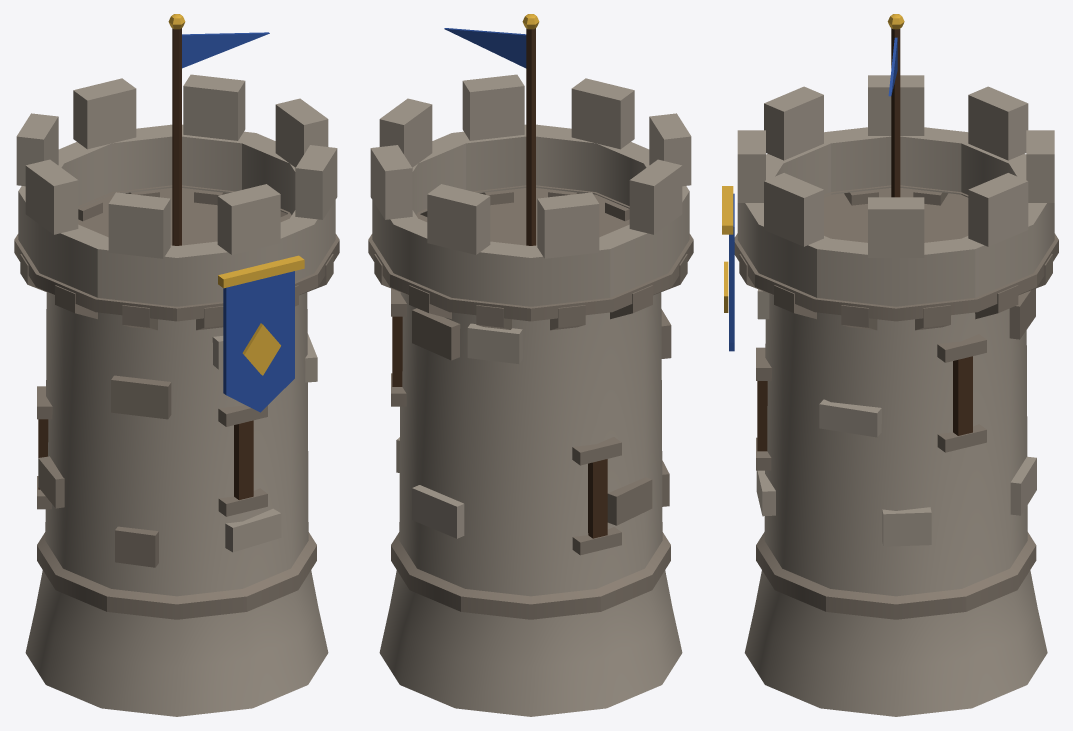
The model's file is tower_post.glb.
The picture shows the model from 3 angles, left to right: view 1: azimuth 30°, elevation 25°; view 2: azimuth 150°, elevation 25°; view 3: azimuth 270°, elevation 25°; orthographic projection.
Visible parts, largest first — view 1: tower_post; view 2: tower_post; view 3: tower_post.
Boxes of the visible parts, x1,y1,x2,y2 form: tower_post: [14, 14, 339, 716]; tower_post: [368, 14, 693, 716]; tower_post: [722, 14, 1058, 716].
Bounding box in the file's own units: 2.3 × 4.98 × 2.38.
